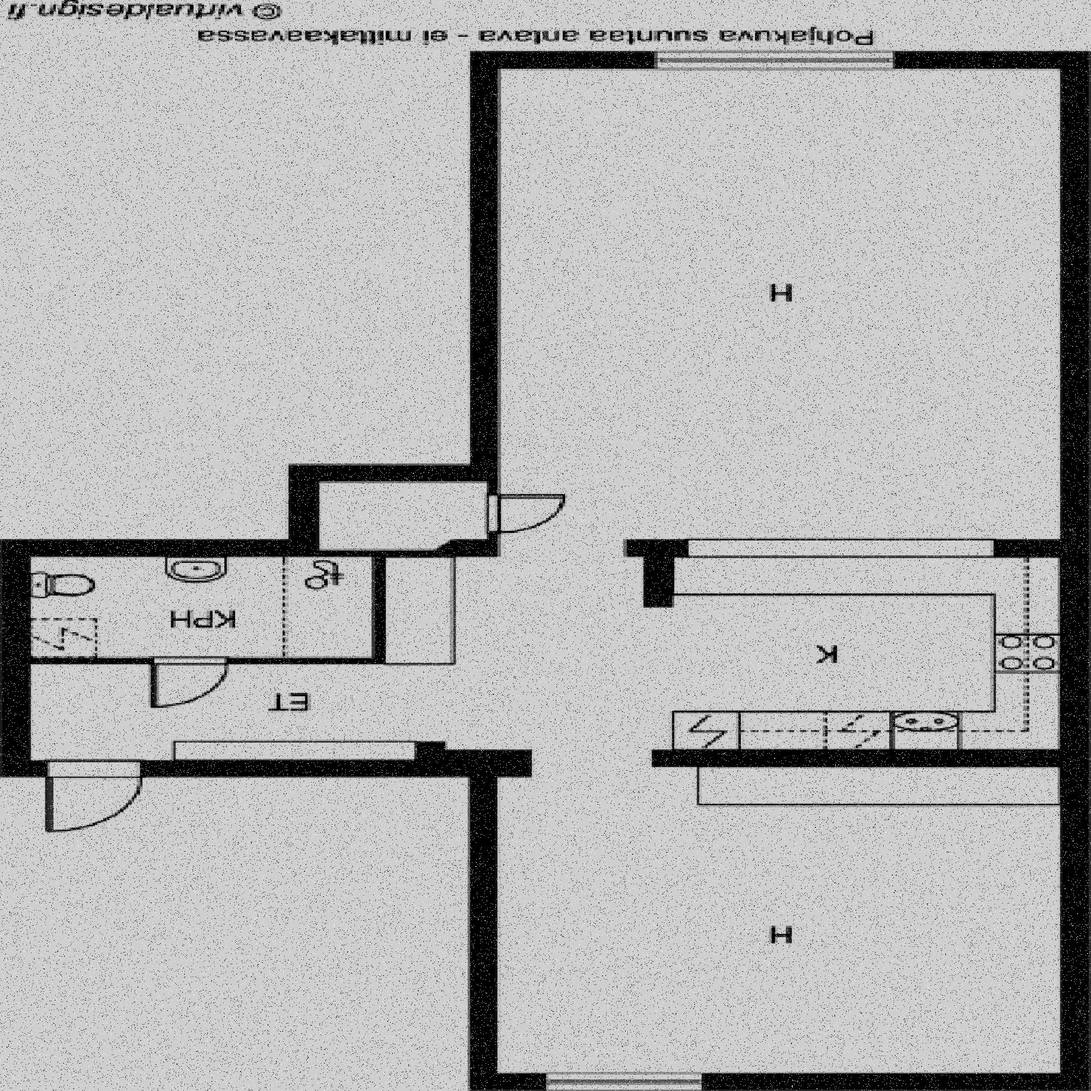wall: (472, 52, 499, 481), (472, 52, 1087, 68), (2, 762, 499, 778), (652, 750, 1058, 767), (2, 540, 29, 778), (2, 540, 317, 556), (290, 465, 499, 481), (29, 657, 386, 664), (290, 466, 317, 556), (648, 557, 674, 609), (374, 556, 386, 664), (317, 549, 499, 556), (992, 540, 1058, 557), (627, 540, 689, 557), (486, 481, 499, 556), (419, 740, 446, 763), (499, 762, 532, 777)
